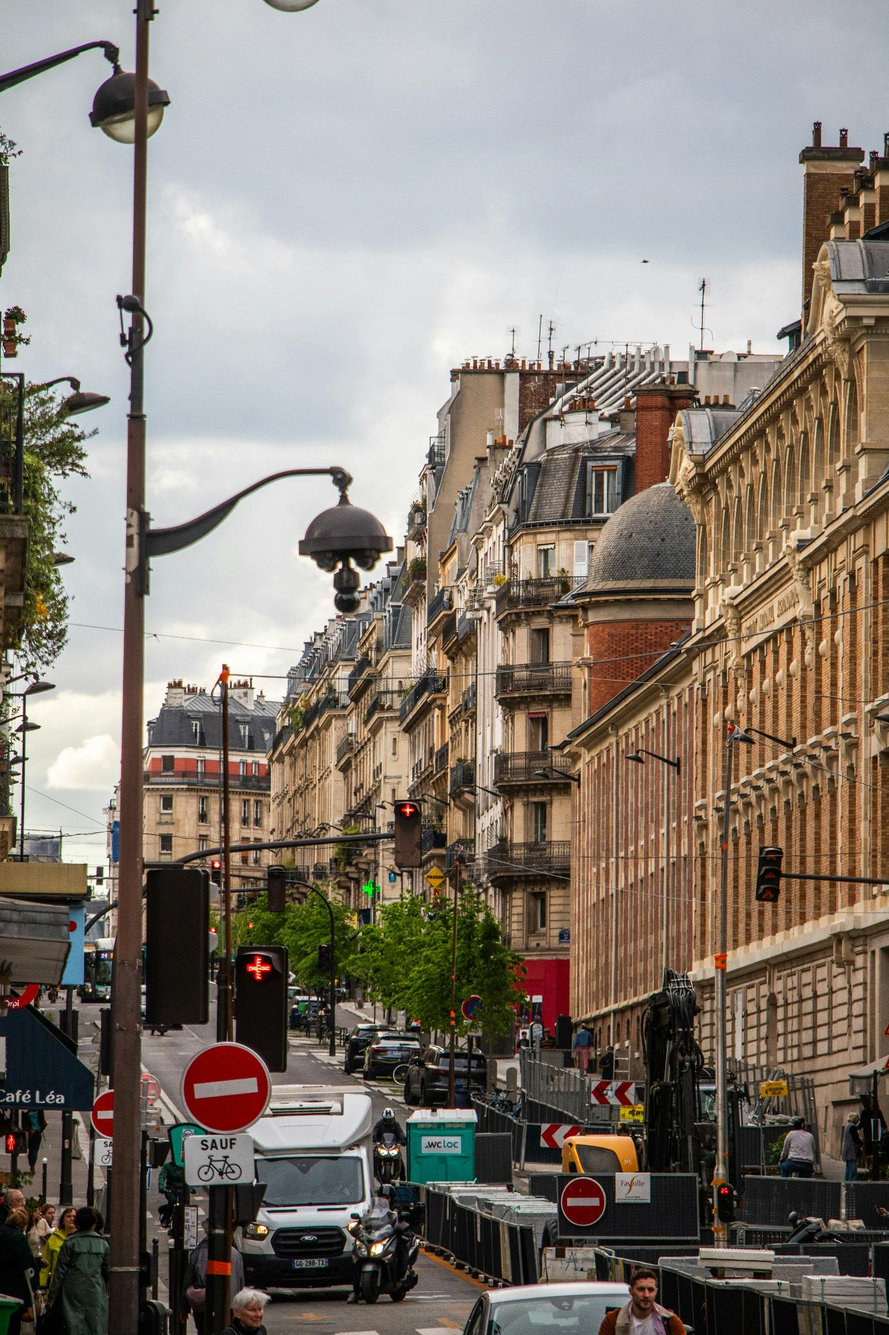car: (241, 1091, 429, 1310), (405, 1043, 488, 1109), (346, 1022, 398, 1076), (364, 1035, 423, 1081), (288, 995, 331, 1029)
pedestrian: (46, 1205, 114, 1333), (600, 1267, 698, 1335), (0, 1185, 39, 1322), (777, 1118, 815, 1177), (138, 1289, 167, 1335), (843, 1122, 859, 1187)
